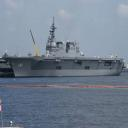Portanaves: (2, 17, 128, 80)
